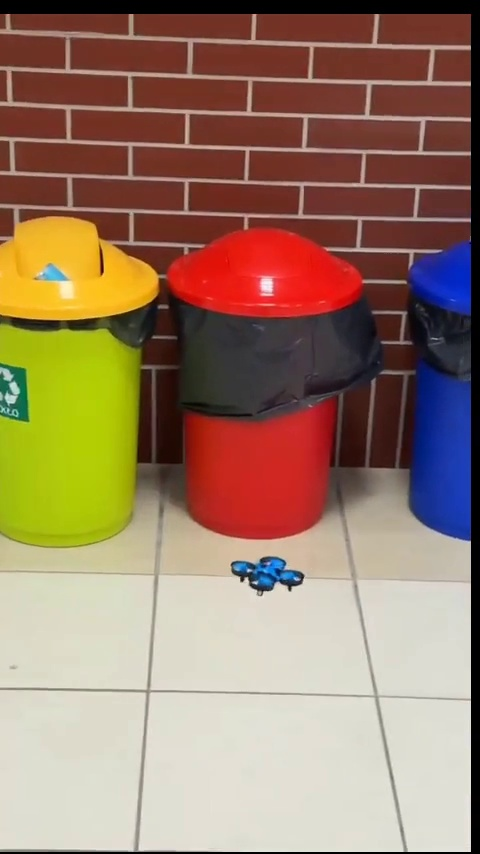drone: (232, 556, 305, 594)
